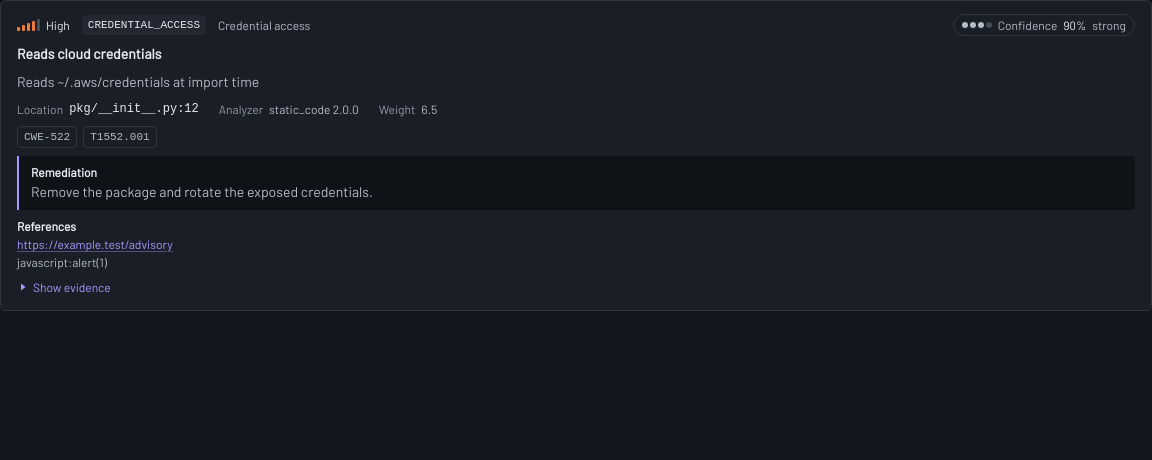
FindingCard › reveals evidence on request, as inert text
Check: the text "alert(\\\"x\\\")" is not shown
Click the button "Show evidence".
click(64, 287)  # box [17,279,111,295]
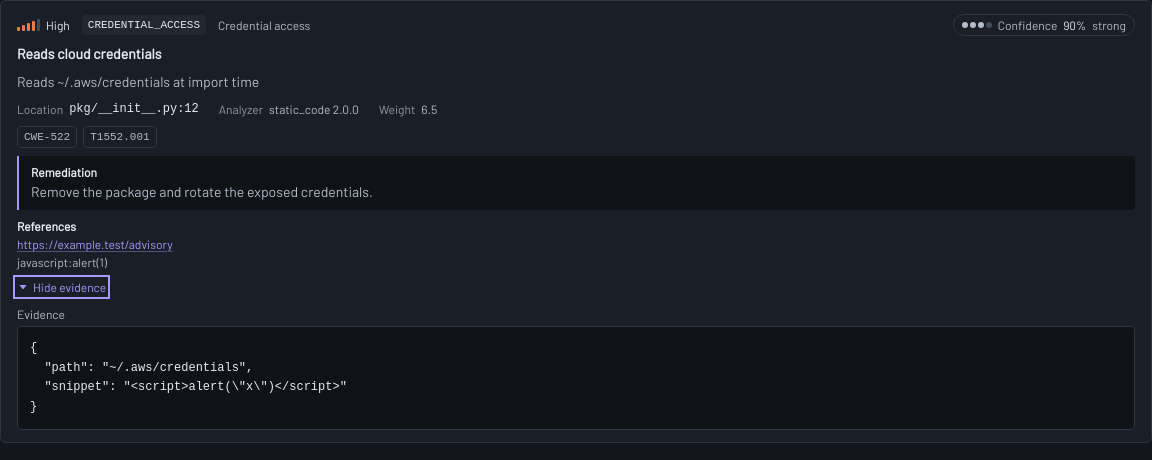
Check: the button "Hide evidence" is expanded, box [17,279,106,295]
Check: the text "<script>alert" is shown, box [30,341,347,414]
